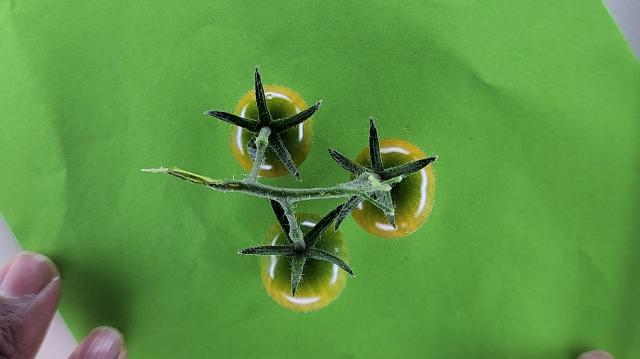Fully Grown: (259, 213, 350, 312), (347, 139, 436, 239), (229, 85, 313, 177)
